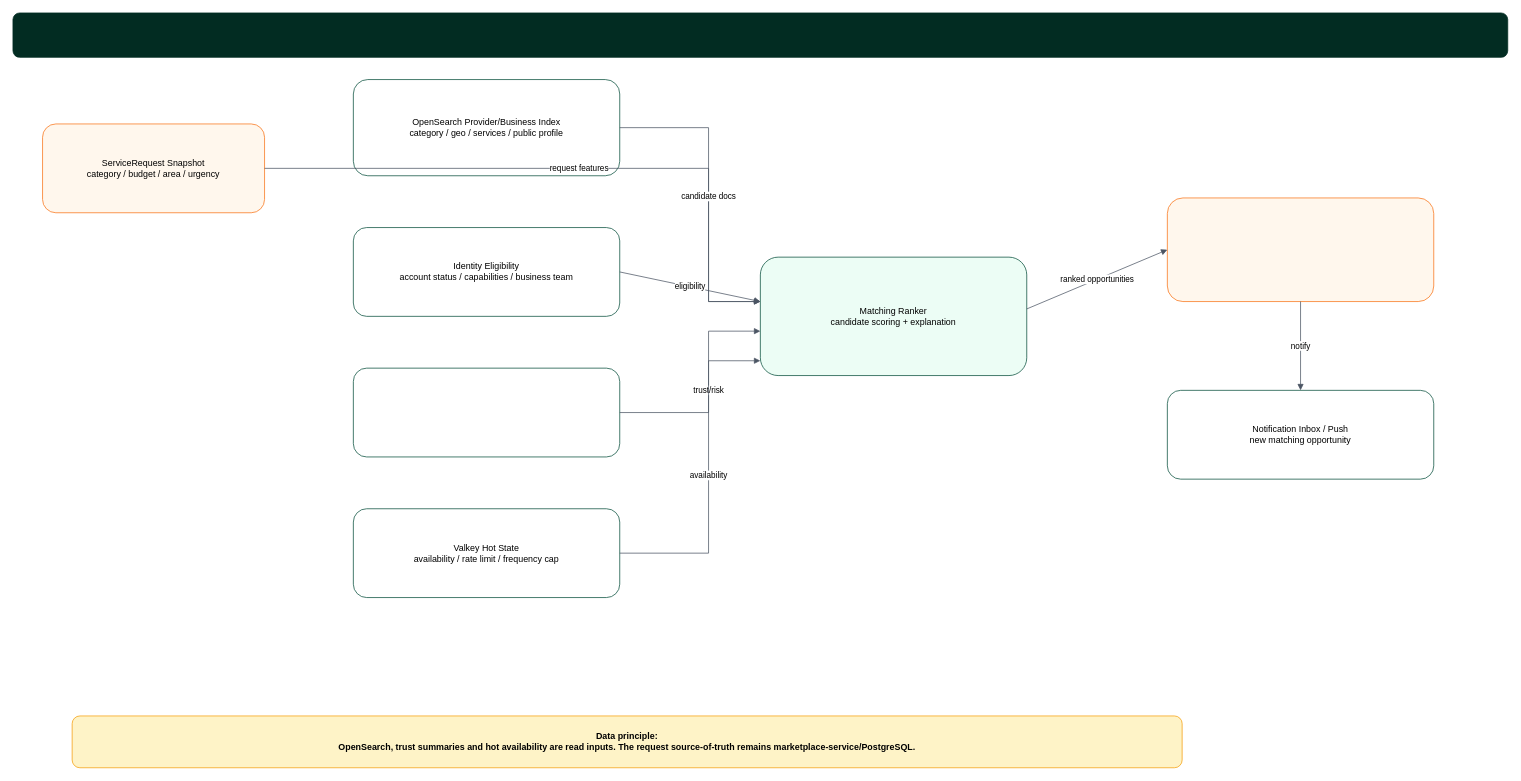
Image size: 1521x781. Some labels were removed from this diagram. Each missing label, with the centre of its shape:
Trust Data rating / badges / risk / disputes / reports: the point at 486,412
Viaverse Matching — Data Flow Diagram: the point at 760,34
WorkerOpportunity Projection requestId / targetId / score / reason codes: the point at 1300,249
